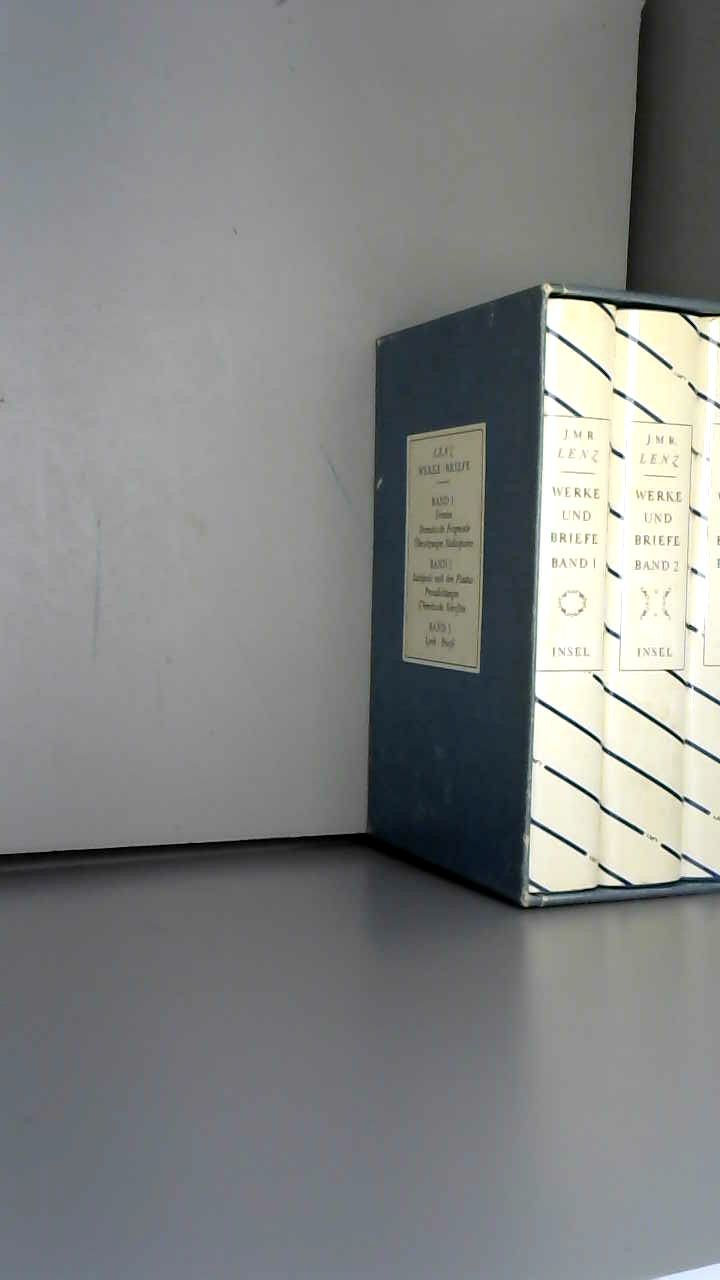book: (340, 260, 717, 931)
